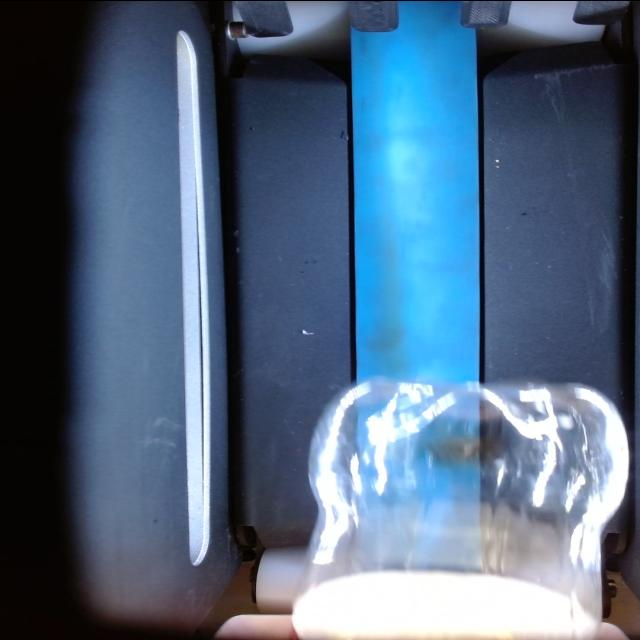bottom: (298, 363, 640, 486)
